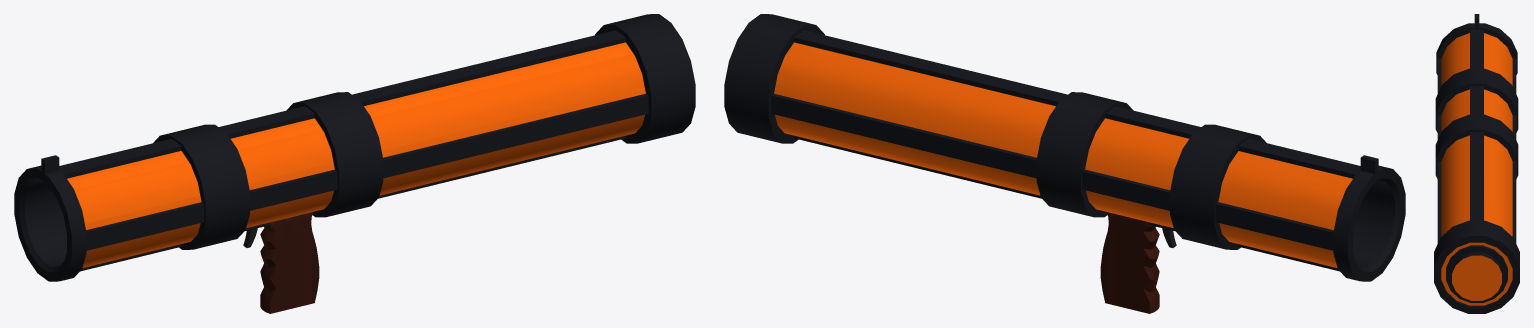
The model's file is bazooka.fbx.
The picture shows the model from 3 angles, left to right: view 1: azimuth 30°, elevation 25°; view 2: azimuth 150°, elevation 25°; view 3: azimuth 270°, elevation 25°; orthographic projection. The views are drawn at different scales.
Visible parts, largest first — view 1: pCylinder1; view 2: pCylinder1; view 3: pCylinder1.
Part boxes in pixels (x1,y1,x2,y2): pCylinder1: [14, 14, 695, 313]; pCylinder1: [724, 14, 1405, 313]; pCylinder1: [1434, 14, 1519, 313].
Size of the model in its own units: 1.07 by 0.3299 by 0.1775.
